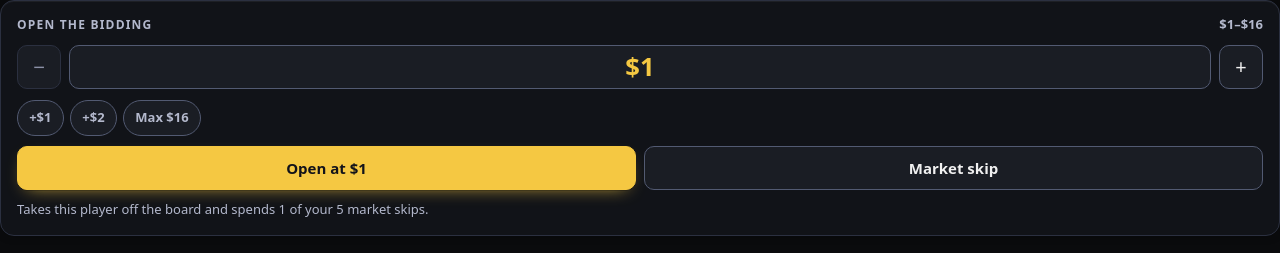
Test: bid controls are a designed auction control, not a form › Max means the legal ceiling, not the whole budget
This screenshot has width=1280, height=253.
What coordinates should you click on to do the following:
click the button with test id "td-bid-max"
I would click on:
 (162, 118)
Its box is top-left (123, 100), bottom-right (201, 136).
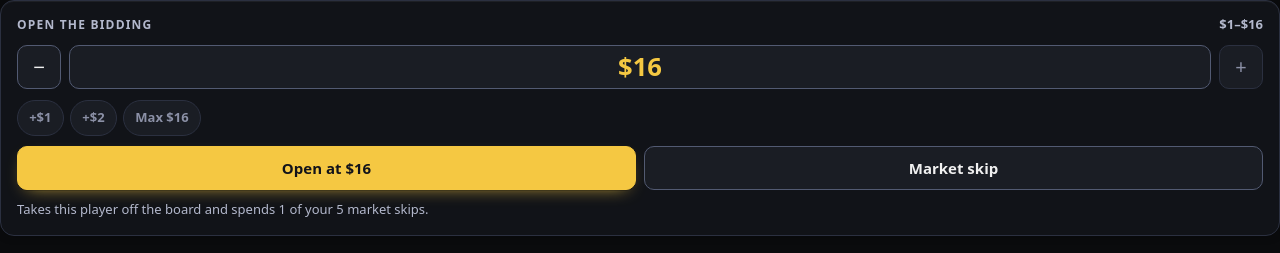
expect the text with test id "td-bid-range" reads "$1–$16": met, box top-left (1219, 15), bottom-right (1263, 33)
expect the text with test id "td-bid-amount" reads "$16": met, box top-left (618, 49), bottom-right (662, 84)
